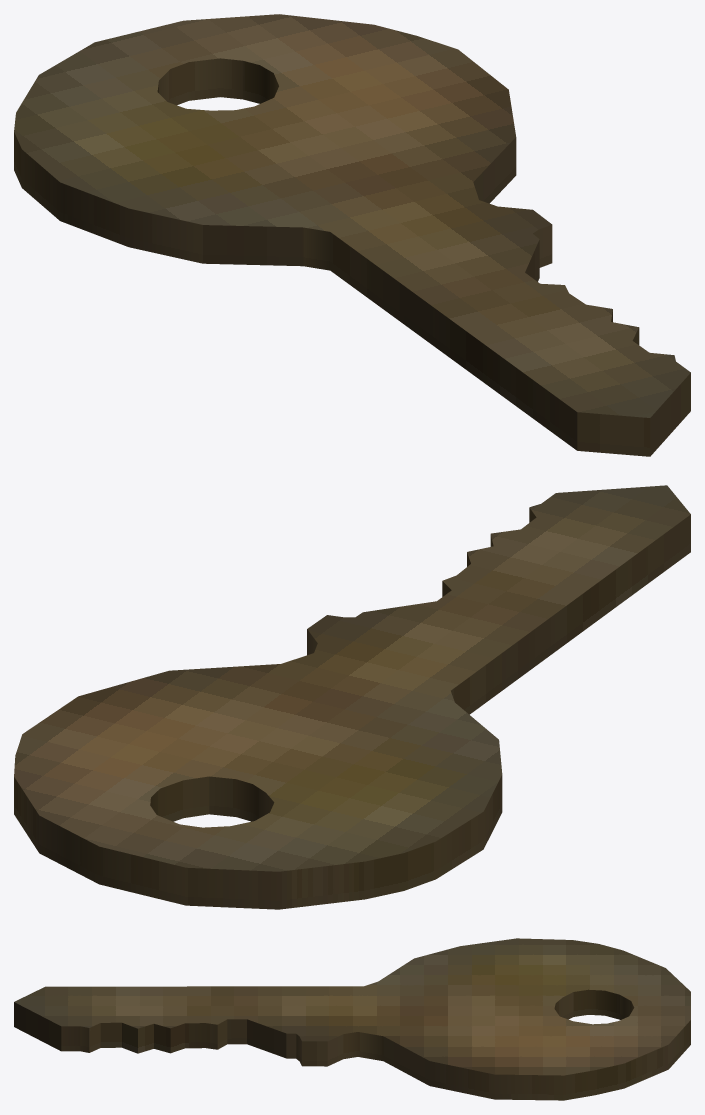
File: key_mp_1.glb
The picture shows the model from 3 angles, top to bottom: view 1: azimuth 30°, elevation 25°; view 2: azimuth 150°, elevation 25°; view 3: azimuth 270°, elevation 25°; orthographic projection. The views are drawn at different scales.
Parts seen in each view (by area): view 1: key_mp_1; view 2: key_mp_1; view 3: key_mp_1.
Part boxes in pixels (<box>): key_mp_1: <box>14,14,690,456</box>; key_mp_1: <box>14,485,690,909</box>; key_mp_1: <box>14,938,690,1100</box>.
Size of the model in its own units: 0.0352 by 0.00301 by 0.0735.
Materials: 1 (1 with a texture image).
